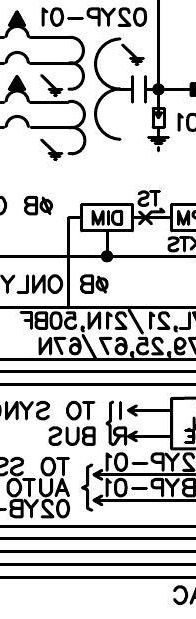115_cvt_1p: (2, 9, 148, 162)
115_la: (147, 107, 171, 153)
DIM: (80, 203, 134, 232)
